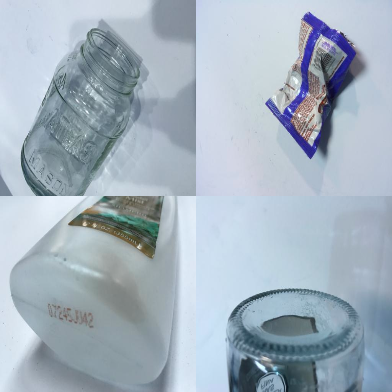glass: (21, 27, 141, 195), (225, 288, 364, 390)
plastic: (10, 196, 179, 392)
trash: (265, 12, 357, 159)
